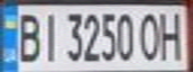0: (115, 9, 139, 62)
2: (81, 8, 103, 63)
3: (60, 8, 84, 63)
5: (100, 9, 118, 62)
B: (12, 9, 42, 63)
H: (157, 8, 190, 61)
I: (36, 9, 60, 63)
O: (136, 9, 163, 62)
